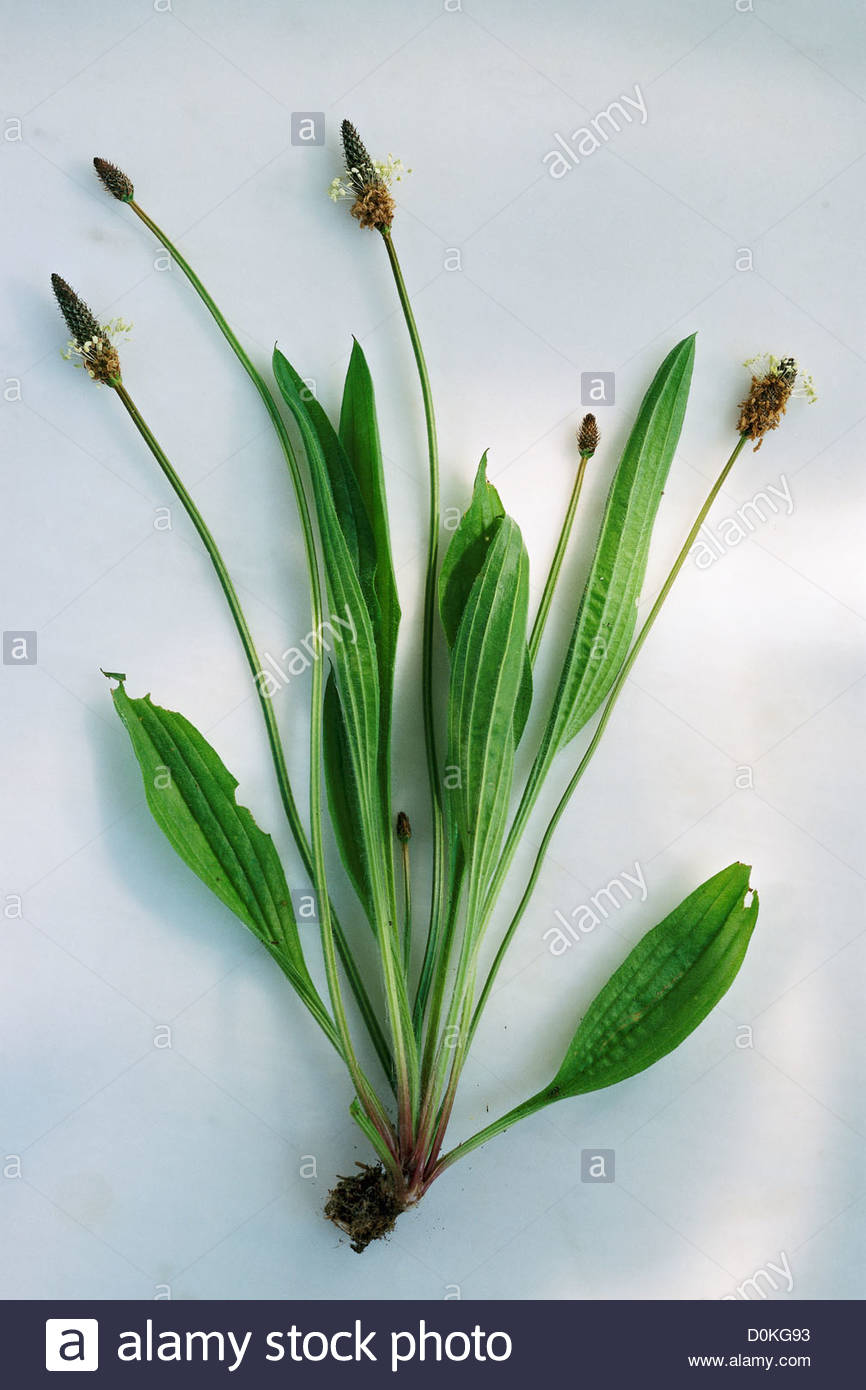buckhorn plantain: (38, 117, 806, 1121)
